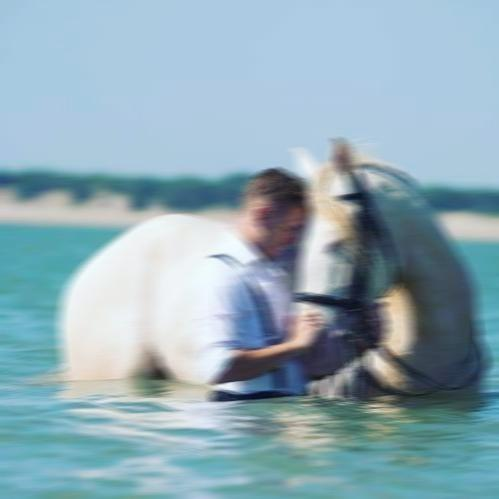horse: (288, 134, 489, 402)
